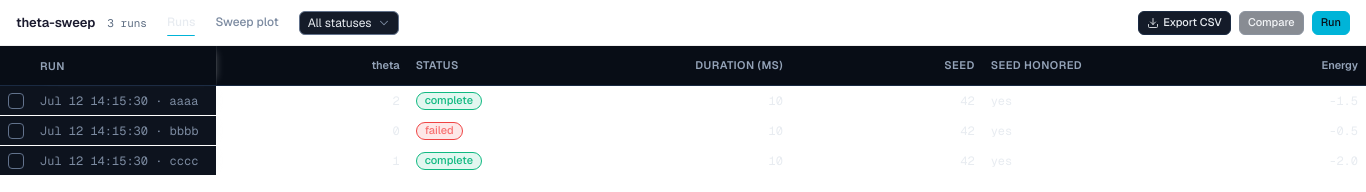
Test: RunsTable › shows how many of the runs a filter keeps (research-r-11)
The image size is (1366, 192).
Check: the text "3 runs" is shown, box [107,16,147,30]
Select "failed" in the dropdown named "Filter by status". click: (349, 22)
box: [299,10,399,34]
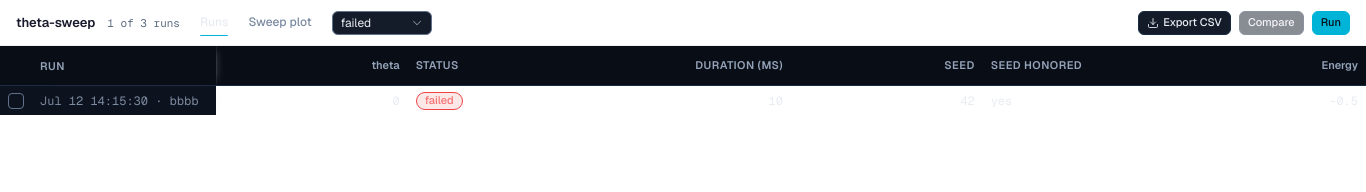
Check: the text "1 of 3 runs" is shown, box [107,16,180,30]
